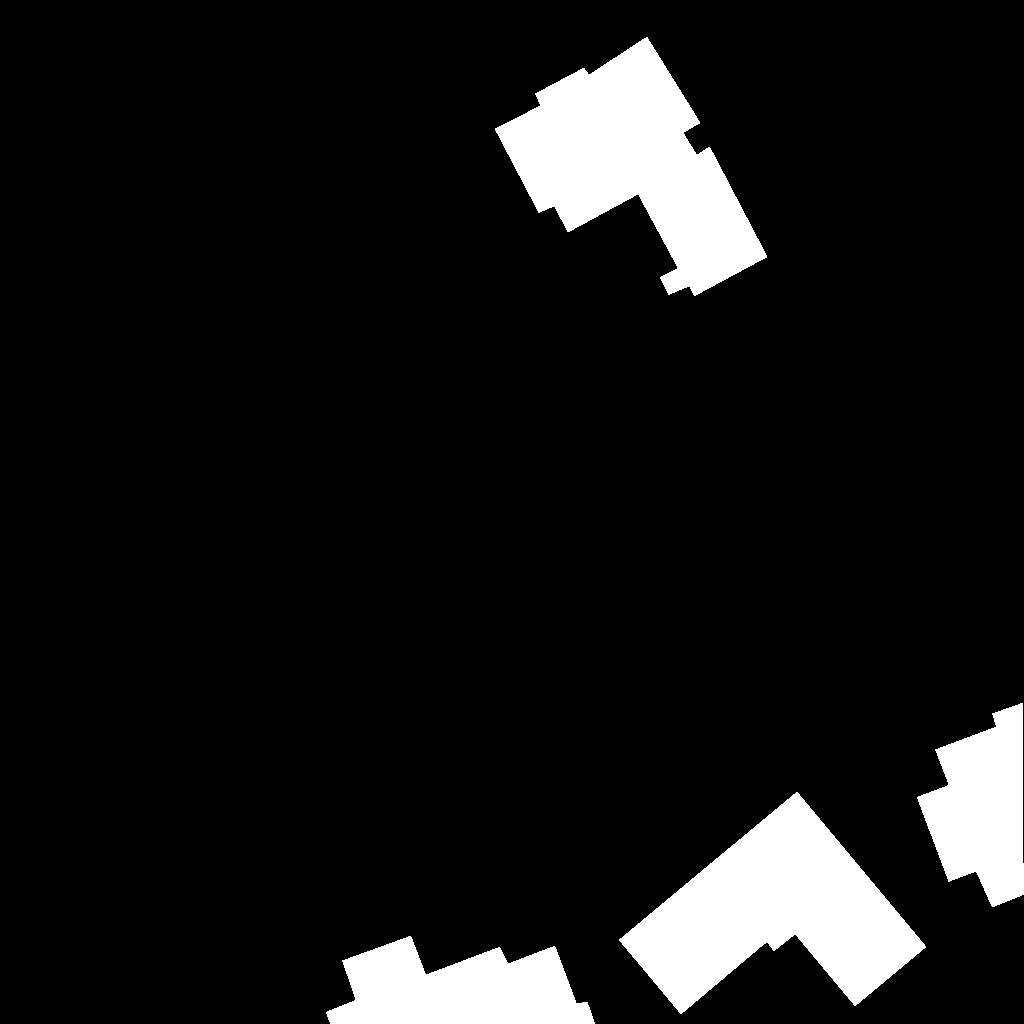building: (495, 37, 768, 297), (619, 792, 927, 1015), (326, 936, 596, 1024), (917, 703, 1024, 908)
